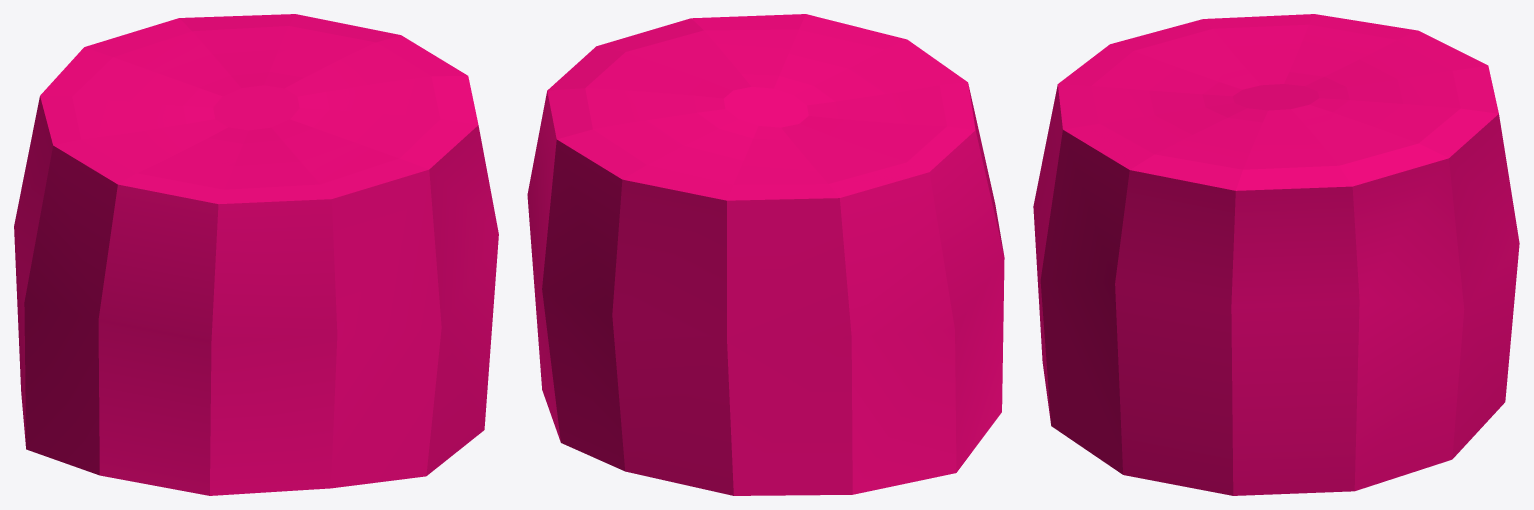
The model's file is SM_SS_Stump_3.fbx.
The picture shows the model from 3 angles, left to right: view 1: azimuth 30°, elevation 25°; view 2: azimuth 150°, elevation 25°; view 3: azimuth 270°, elevation 25°; orthographic projection.
Visible parts, largest first — view 1: SM_SS_Stump_3; view 2: SM_SS_Stump_3; view 3: SM_SS_Stump_3.
Boxes of the visible parts, <box> form: SM_SS_Stump_3: <box>14,14,498,495</box>; SM_SS_Stump_3: <box>527,14,1004,495</box>; SM_SS_Stump_3: <box>1033,14,1519,495</box>.
Bounding box in the file's own units: 24.48 × 24.5 × 17.28.
